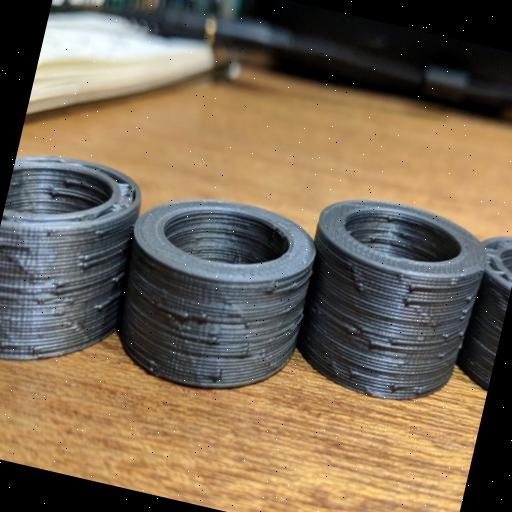blobs: (331, 264, 477, 416), (131, 283, 264, 392), (66, 221, 112, 292), (40, 169, 90, 211)
